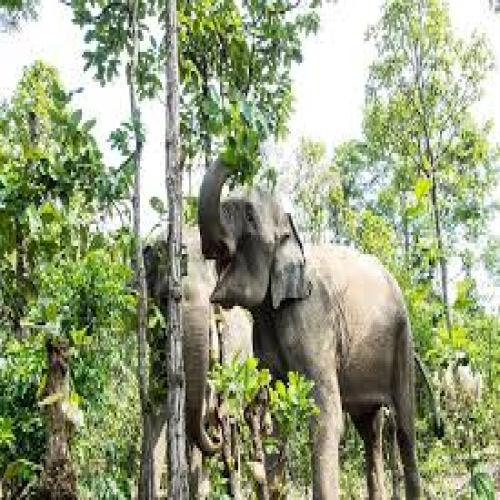asian_elephant-endangered: (195, 150, 431, 500), (176, 244, 231, 467)
